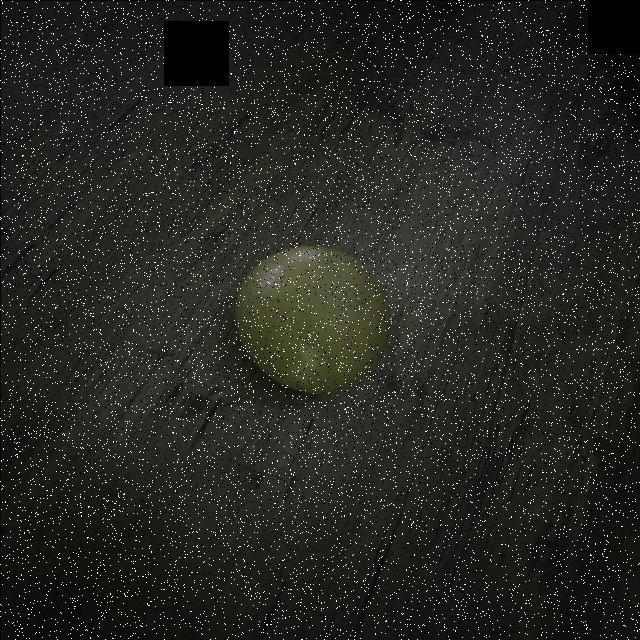egg: (233, 238, 399, 396)
